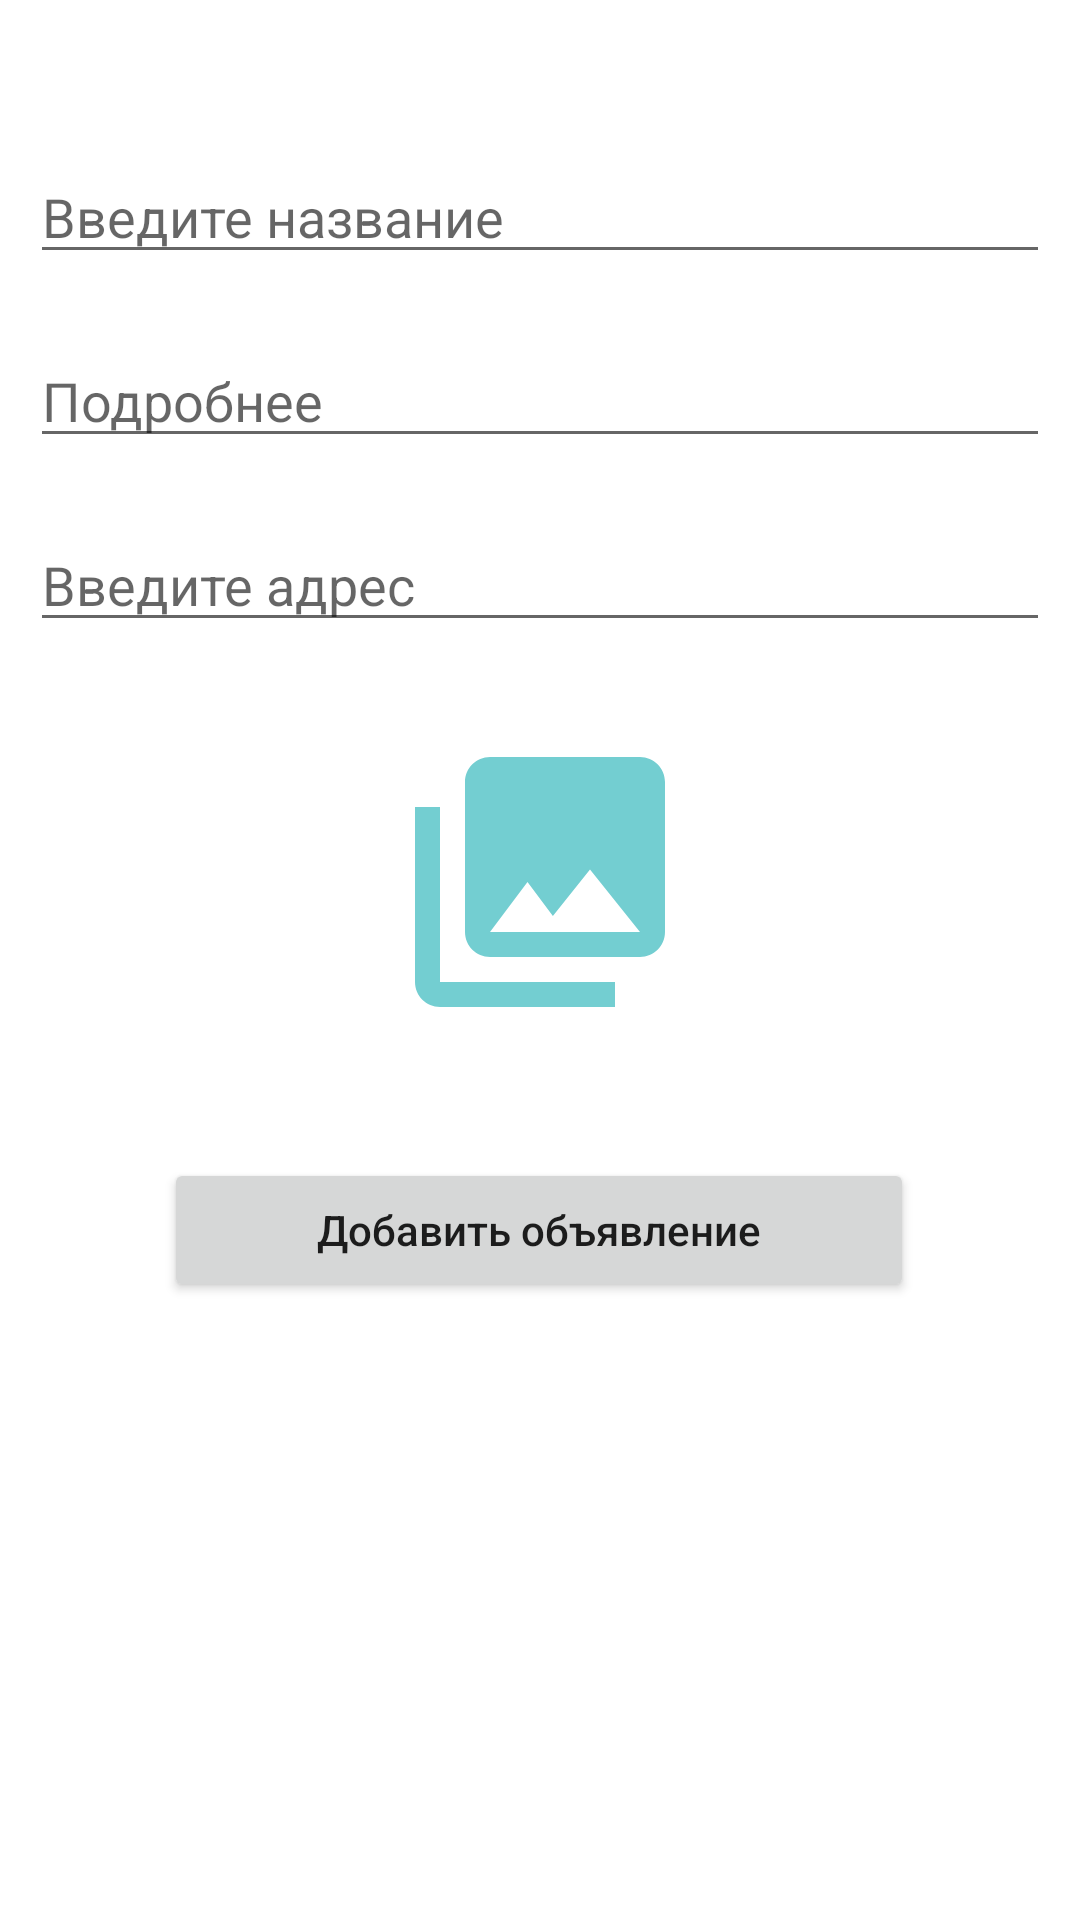

Icons on this 1080px×1920px Android screen, each with the point to tap as (x,y):
photo library: (540,882)
